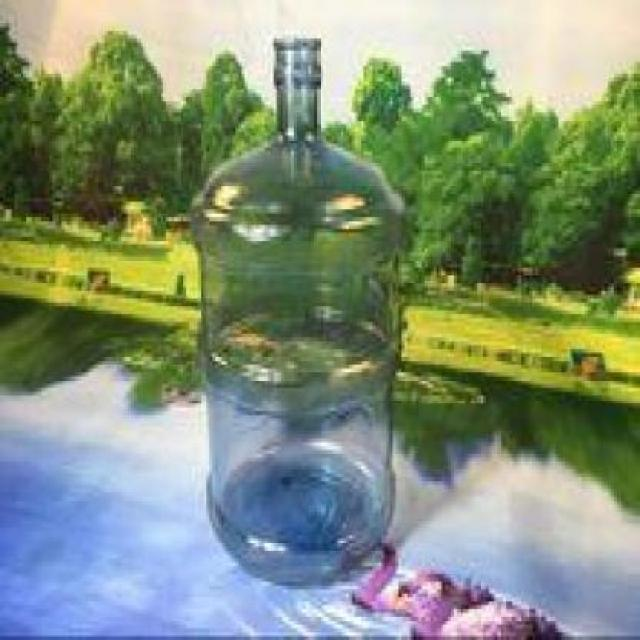coolerbottle: (189, 31, 413, 591)
